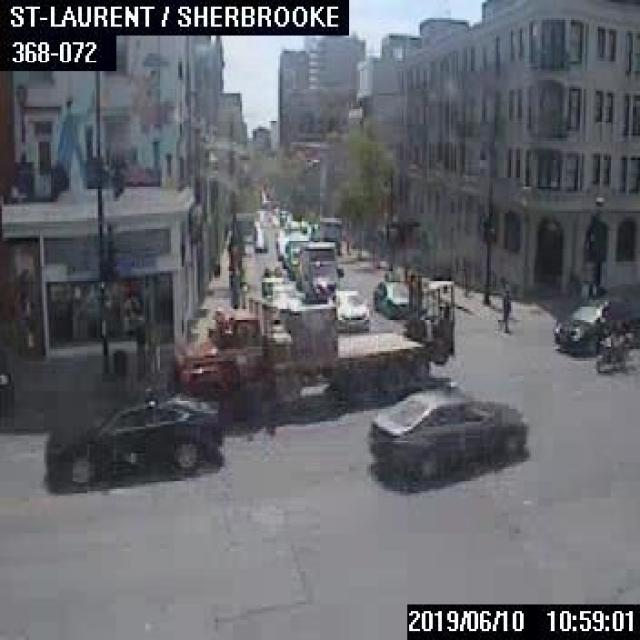pedestrian: (133, 314, 146, 367), (146, 320, 159, 372), (499, 280, 510, 332)
vehicle: (168, 272, 452, 422), (45, 383, 223, 484), (367, 381, 526, 478), (549, 298, 638, 351), (299, 240, 343, 301), (326, 286, 369, 330), (594, 322, 626, 369), (372, 276, 408, 316), (0, 351, 15, 413), (287, 238, 310, 276), (318, 217, 341, 253), (253, 237, 266, 251), (282, 242, 288, 266)
